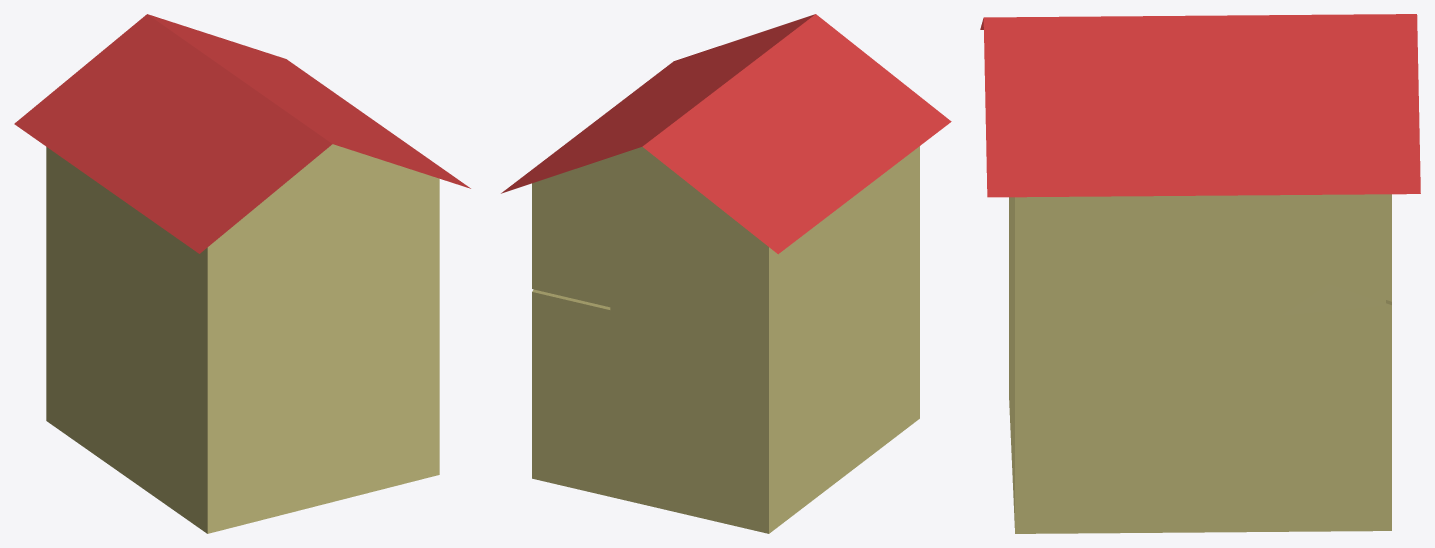
The picture shows the model from 3 angles, left to right: view 1: azimuth 30°, elevation 25°; view 2: azimuth 150°, elevation 25°; view 3: azimuth 270°, elevation 25°; orthographic projection. The views are drawn at different scales.
Bounding box in the file's own units: 10.39 × 11.69 × 13.05.
